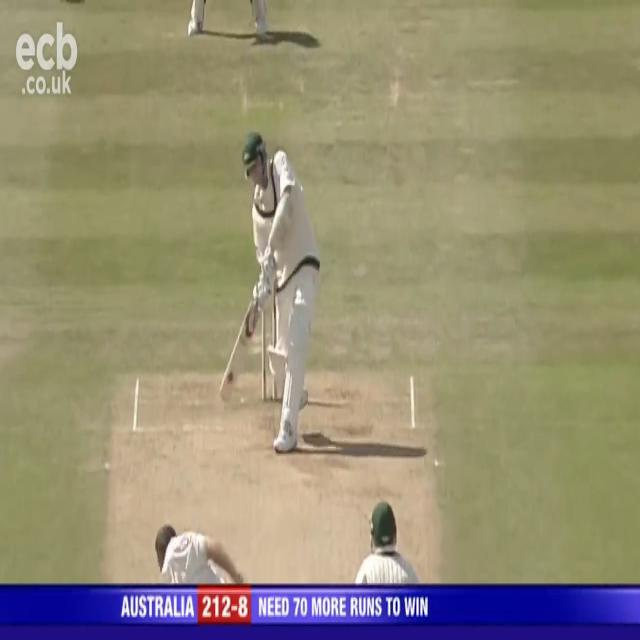ball: (225, 368, 236, 388)
